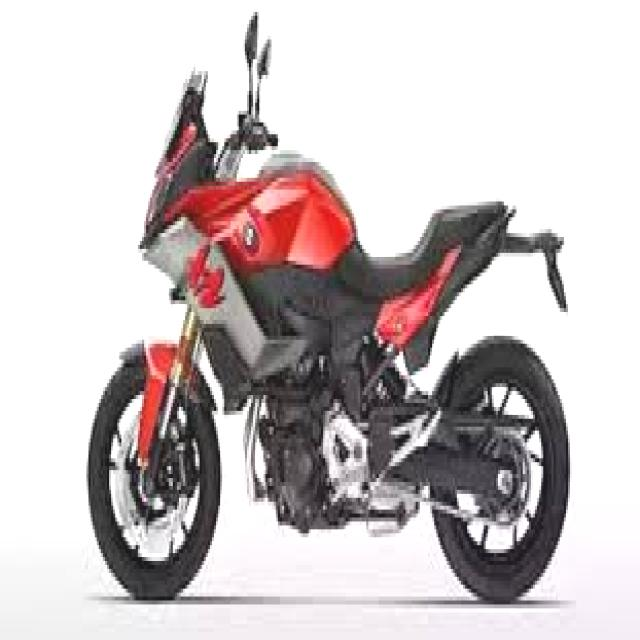MOTORCYCLE: (78, 16, 574, 604)
